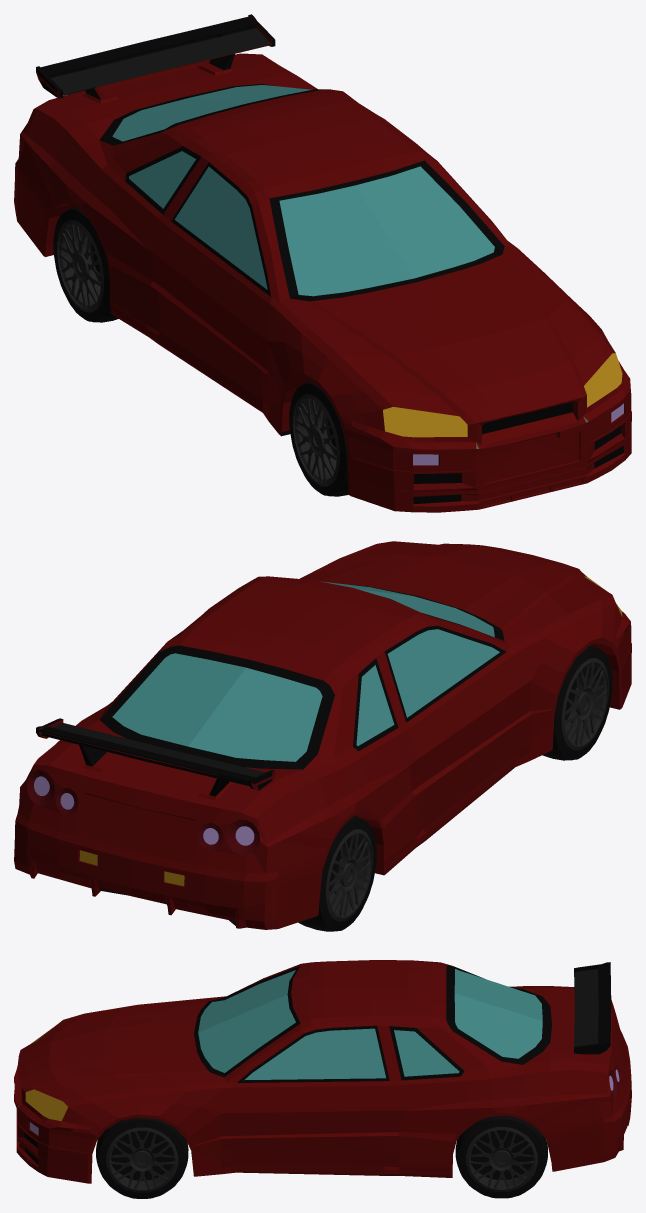
The model's file is Red.obj.
3 views of the same model, one above another, from view 1: azimuth 30°, elevation 25°; view 2: azimuth 150°, elevation 25°; view 3: azimuth 270°, elevation 25° (orthographic). The views are drawn at different scales.
Parts seen in each view (by area): view 1: Body, BackShield, F_wheel.r, BackWheels; view 2: Body, F_wheel.r, BackWheels, BackShield; view 3: Body, BackWheels, F_Wheel.l, BackShield.
Part boxes in pixels (x1,y1,x2,y2): Body: (14, 15, 631, 512); BackShield: (36, 14, 275, 99); F_wheel.r: (289, 381, 348, 496); BackWheels: (53, 206, 118, 322); Body: (14, 541, 631, 929); F_wheel.r: (542, 644, 612, 760); BackWheels: (298, 815, 376, 931); BackShield: (36, 718, 274, 796); Body: (14, 960, 631, 1183); BackWheels: (455, 1116, 547, 1198); F_Wheel.l: (96, 1117, 188, 1198); BackShield: (574, 962, 611, 1054).
Size of the model in its own units: 2.41 by 1.83 by 6.17.
